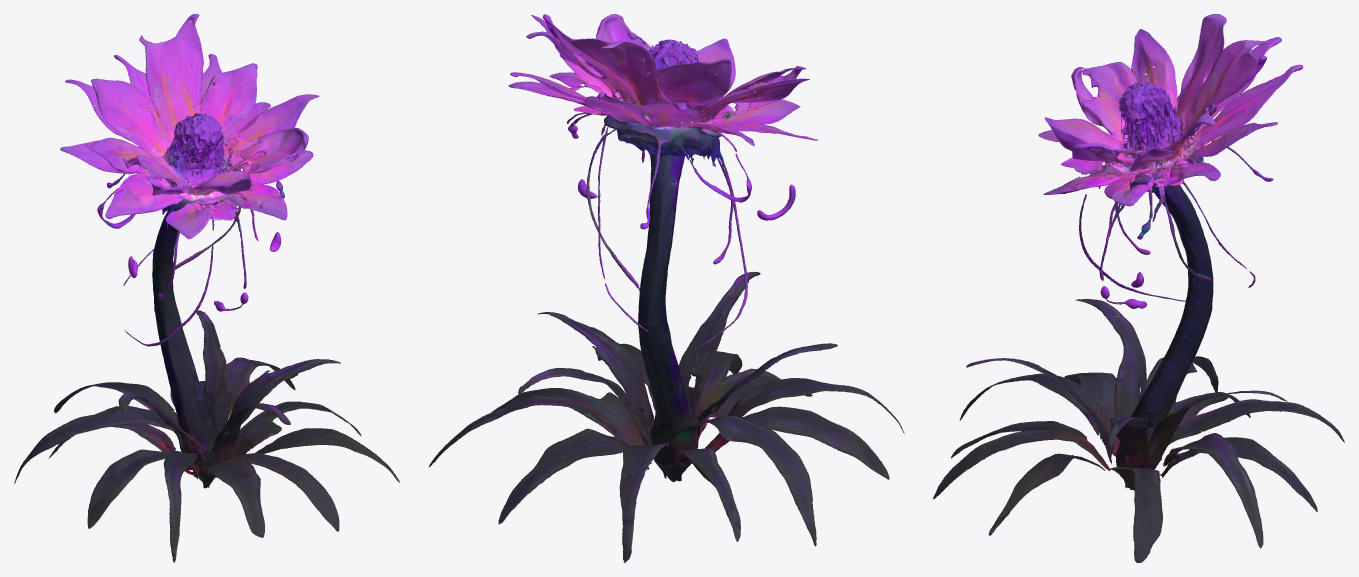
File: muta-plant.glb
3 views of the same model, side by side, from view 1: azimuth 30°, elevation 25°; view 2: azimuth 150°, elevation 25°; view 3: azimuth 270°, elevation 25° (orthographic). The views are drawn at different scales.
Size of the model in its own units: 1.56 by 1.99 by 1.62.
1 material, 1 textured.
